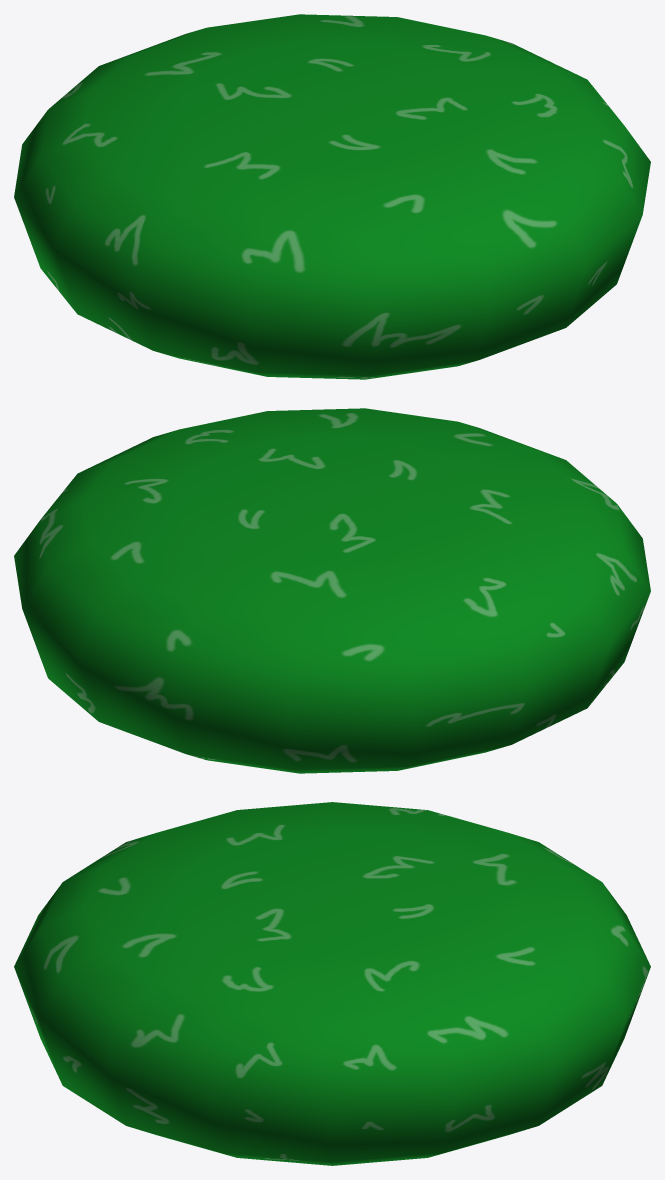
File: TreePlatformV2.fbx
The picture shows the model from 3 angles, top to bottom: view 1: azimuth 30°, elevation 25°; view 2: azimuth 150°, elevation 25°; view 3: azimuth 270°, elevation 25°; orthographic projection.
Parts seen in each view (by area): view 1: TreePlatformV2; view 2: TreePlatformV2; view 3: TreePlatformV2.
Boxes of the visible parts, <box> form: TreePlatformV2: <box>14,14,650,379</box>; TreePlatformV2: <box>14,408,650,773</box>; TreePlatformV2: <box>14,802,650,1165</box>.
Bounding box in the file's own units: 339 × 101 × 339.
1 material, 1 textured.
